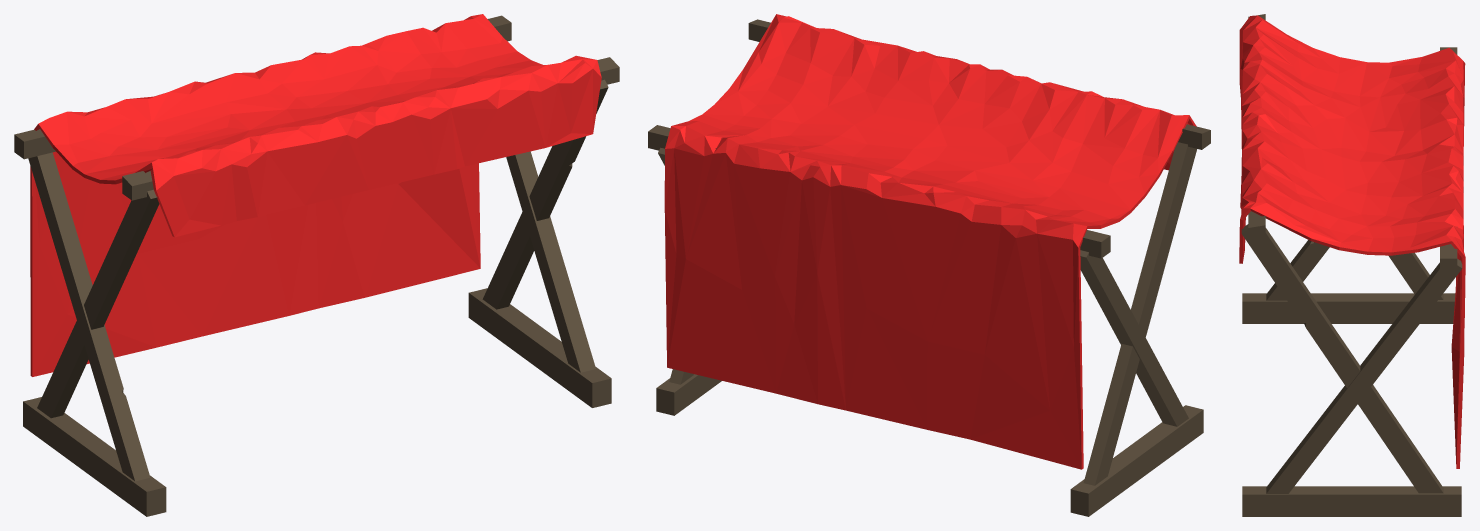
The model's file is stand_e.FBX.
3 views of the same model, side by side, from view 1: azimuth 30°, elevation 25°; view 2: azimuth 150°, elevation 25°; view 3: azimuth 270°, elevation 25° (orthographic). The views are drawn at different scales.
Parts seen in each view (by area): view 1: stand_e; view 2: stand_e; view 3: stand_e.
Part boxes in pixels (left/top/right/bottom): stand_e: left=14, top=14, right=619, bottom=516; stand_e: left=648, top=14, right=1210, bottom=516; stand_e: left=1239, top=14, right=1465, bottom=516.
Size of the model in its own units: 4.29 by 2.9 by 1.94.
